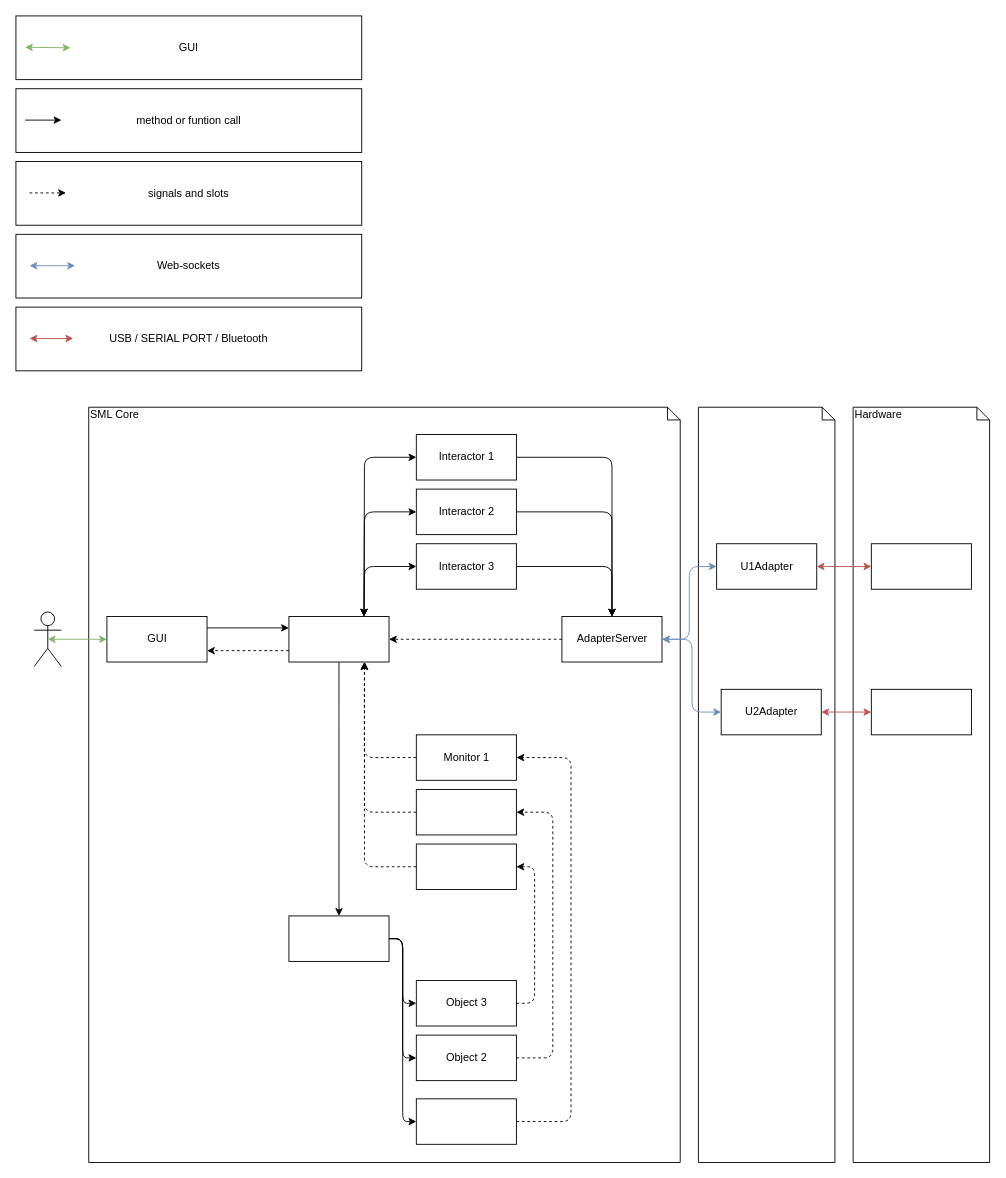
This 1006x1178 diagram has some shape labels left out. The box of each missing label's shape, as (x1, y1, x2, y2) in pixels:
MachineTool: (288, 616, 389, 662)
Monitor 2: (415, 789, 516, 835)
Monitor 3: (415, 843, 516, 890)
Object 1: (415, 1098, 516, 1144)
Repository: (288, 915, 389, 961)
SML Adapters: (698, 406, 835, 1163)
U1_Hardware: (870, 543, 971, 589)
U2_Hardware: (870, 688, 971, 735)
User: (33, 611, 61, 667)
